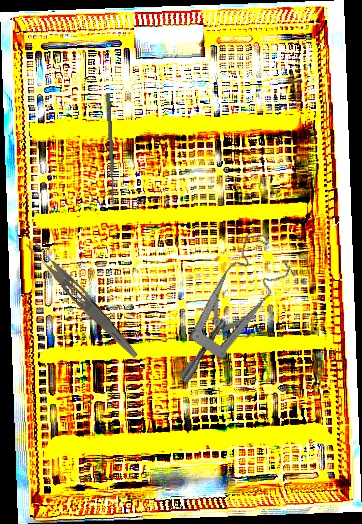Dressing Forceps: (22, 236, 145, 361)
Speculum: (136, 225, 314, 386)
Surgical Spoon: (105, 92, 116, 207)
